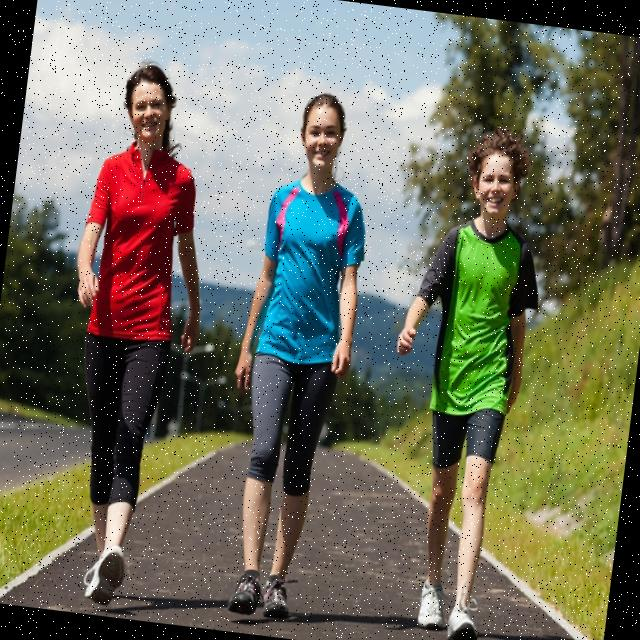Person: (36, 58, 227, 612), (360, 118, 559, 640), (206, 84, 383, 624)
